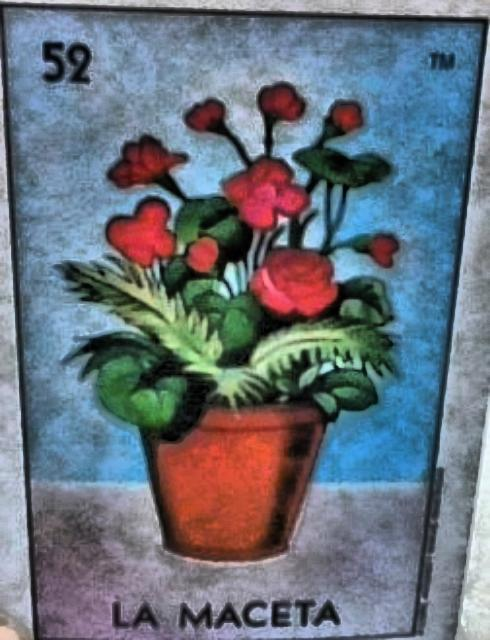La Maceta: (2, 6, 488, 638)
